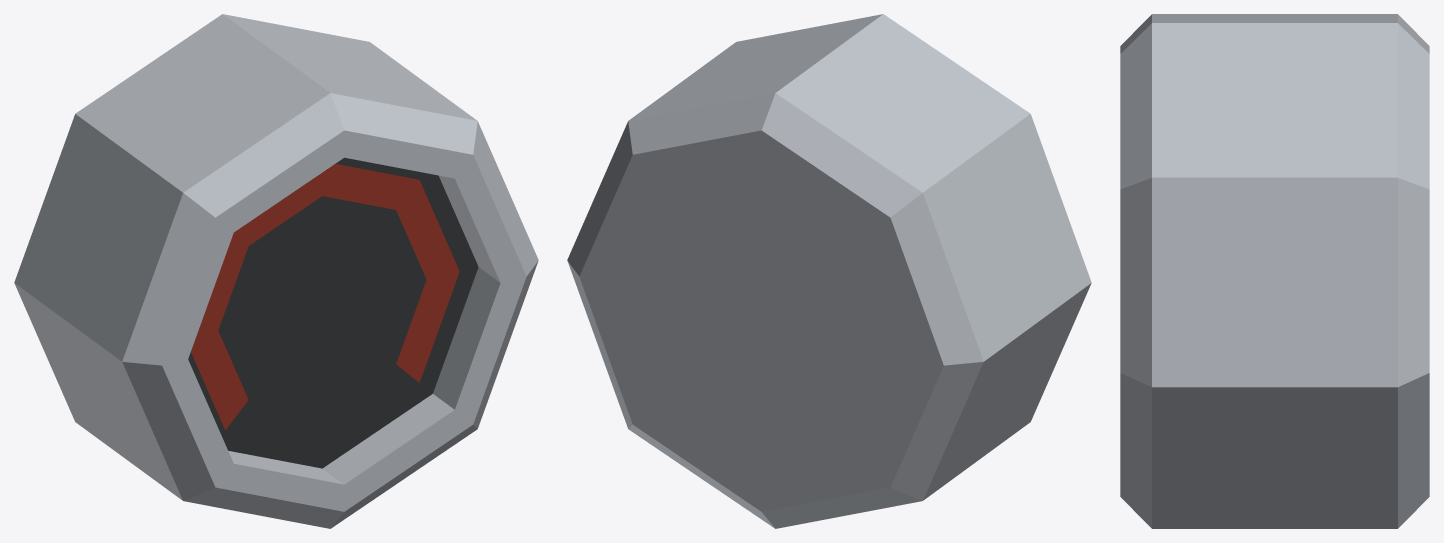
File: SM_Prop_BoostGauge_02.fbx
The picture shows the model from 3 angles, left to right: view 1: azimuth 30°, elevation 25°; view 2: azimuth 150°, elevation 25°; view 3: azimuth 270°, elevation 25°; orthographic projection. The views are drawn at different scales.
Parts seen in each view (by area): view 1: SM_Prop_BoostGauge_02; view 2: SM_Prop_BoostGauge_02; view 3: SM_Prop_BoostGauge_02.
Part boxes in pixels (box(x1,y1,x2,y2)): SM_Prop_BoostGauge_02: box(14, 14, 538, 528); SM_Prop_BoostGauge_02: box(567, 14, 1091, 528); SM_Prop_BoostGauge_02: box(1120, 14, 1429, 528).
Size of the model in its own units: 17.64 by 17.64 by 9.95.
